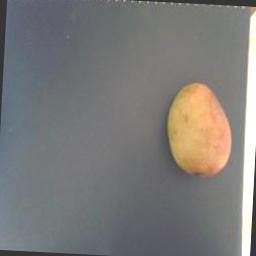Mango Unripe: (164, 68, 242, 186)
